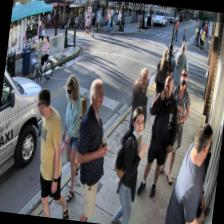person: (22, 86, 83, 219), (68, 76, 116, 223), (136, 73, 182, 198), (106, 103, 152, 224), (163, 119, 216, 224), (50, 73, 90, 202), (155, 66, 194, 184), (121, 66, 152, 180)
